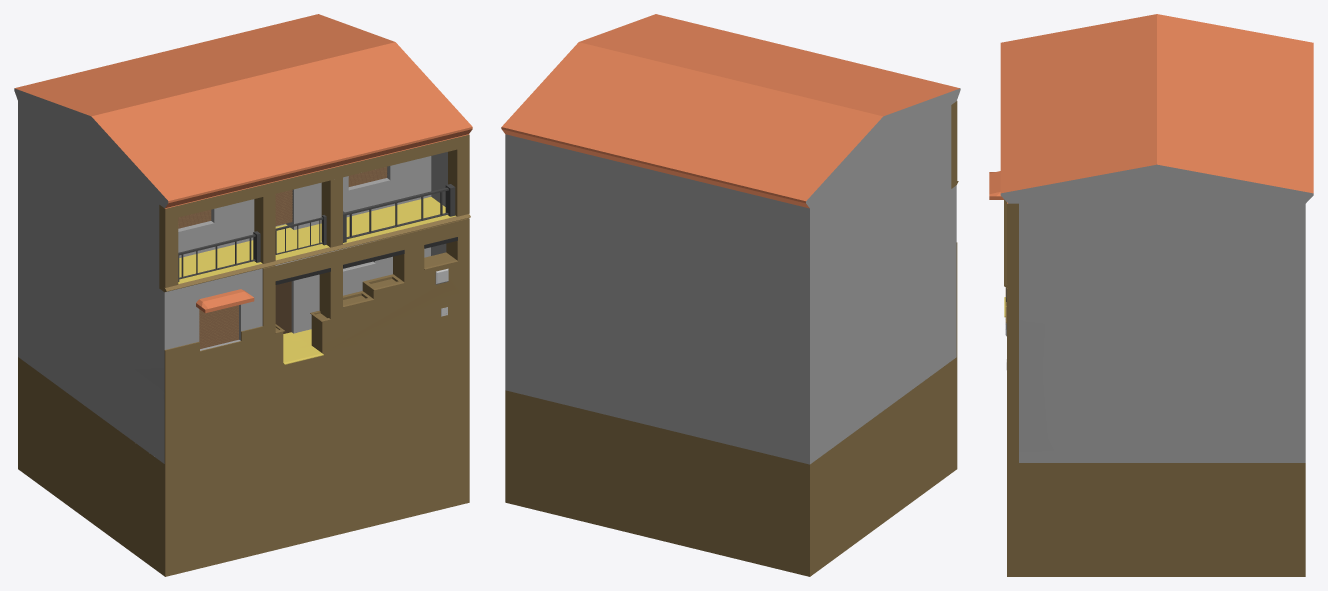
The model's file is 22_Casa_Manuel_Maqueda.fbx.
The picture shows the model from 3 angles, left to right: view 1: azimuth 30°, elevation 25°; view 2: azimuth 150°, elevation 25°; view 3: azimuth 270°, elevation 25°; orthographic projection.
Parts seen in each view (by area): view 1: Casa.001; view 2: Casa.001; view 3: Casa.001.
Boxes of the visible parts, bbox=[...] form: Casa.001: bbox=[14, 14, 472, 576]; Casa.001: bbox=[501, 14, 960, 576]; Casa.001: bbox=[989, 14, 1313, 576].
Size of the model in its own units: 1053 by 1343 by 957.
